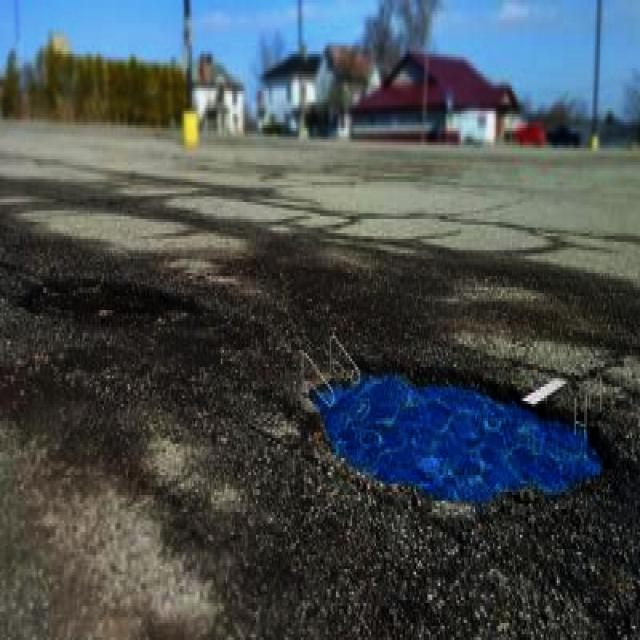Pothole: (285, 331, 619, 533), (22, 266, 210, 344)
